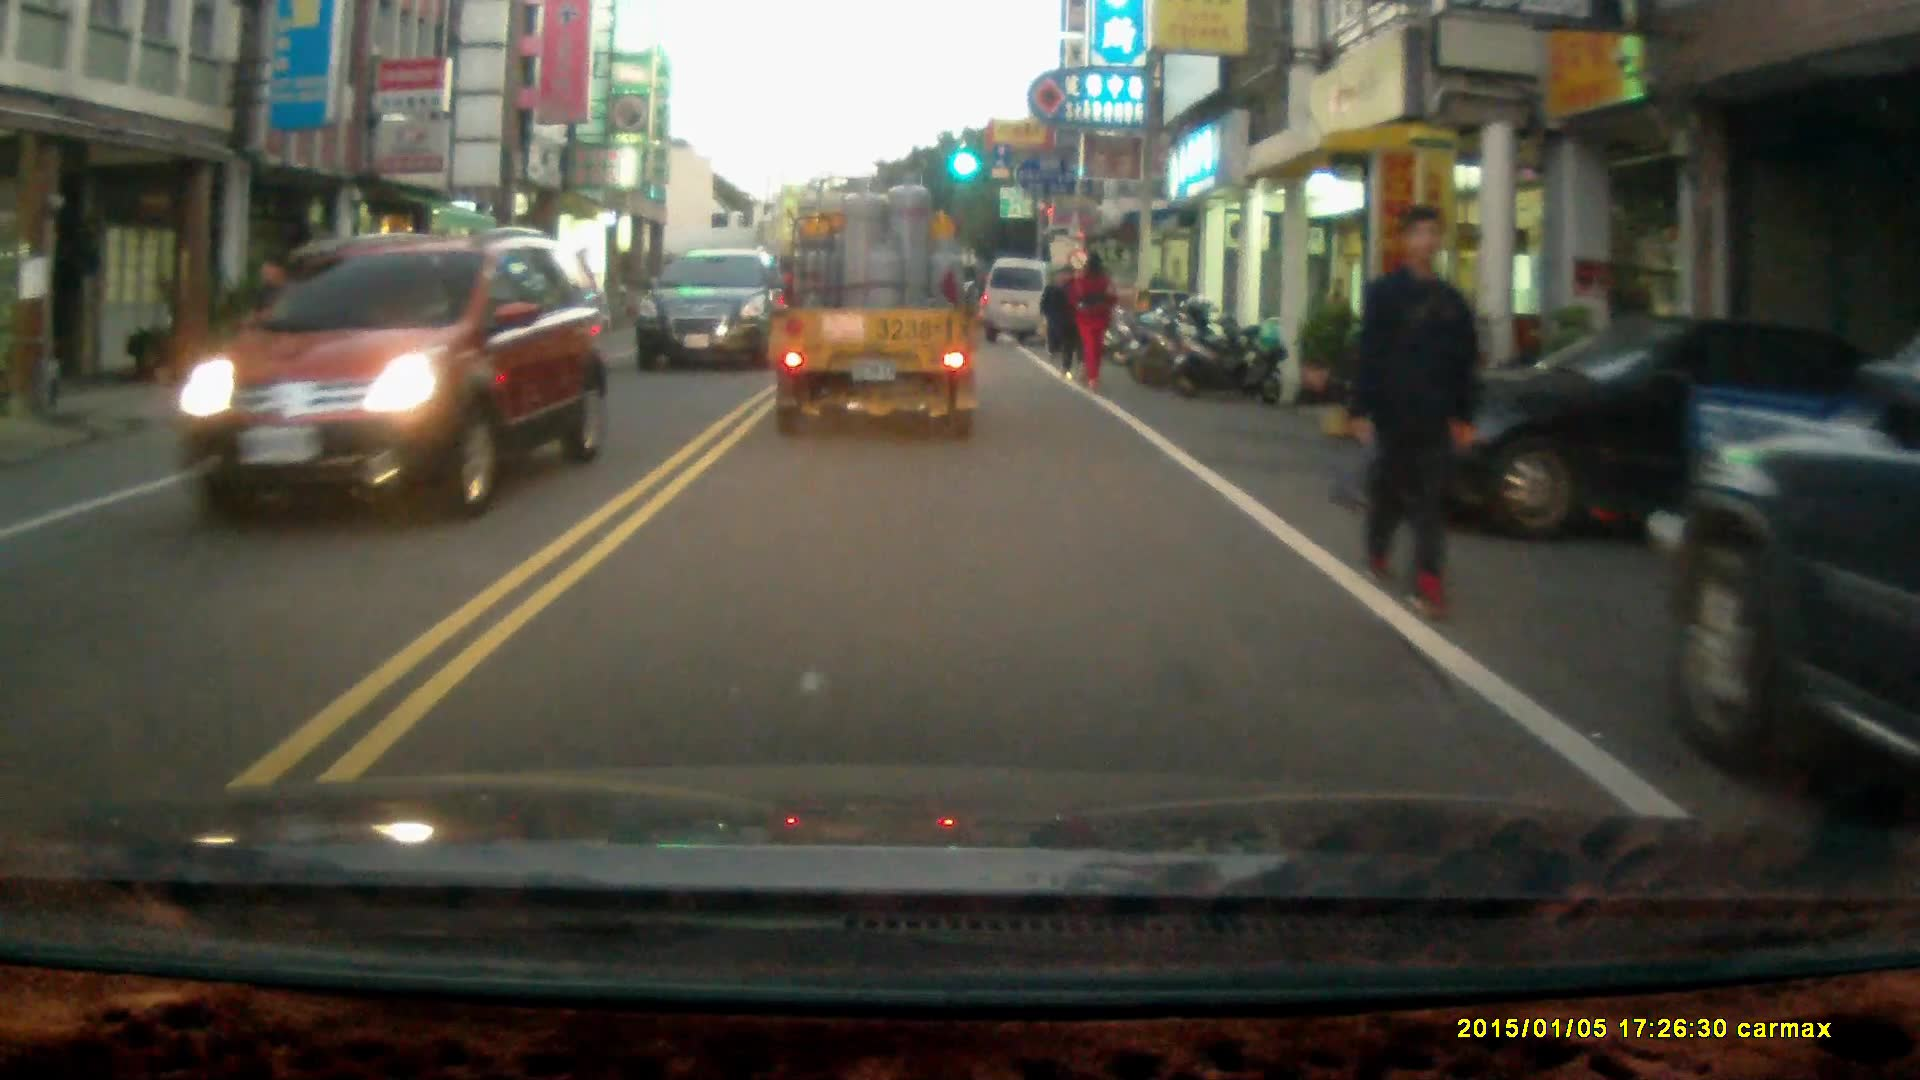pedestrian: (1342, 200, 1484, 615), (1073, 248, 1113, 386), (1051, 262, 1087, 380), (1320, 274, 1351, 358)
vehicle: (1367, 311, 1898, 553), (1661, 299, 1920, 775), (184, 232, 607, 524), (769, 198, 985, 476), (633, 248, 786, 376), (984, 259, 1064, 347)
